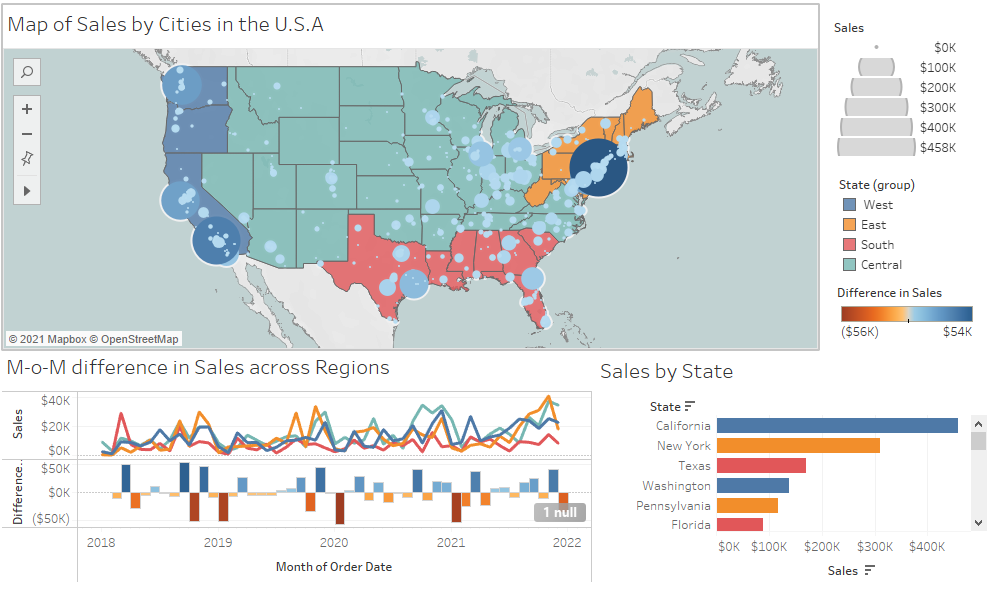

Layout of this report page (visuals, bound fields, positions):
{"tool":"tableau","page":{"name":"Dashboard 1","canvas":[1000,800],"ordinal":0},"visuals":[{"type":"worksheet","title":"Map of Sales by Cities in the U.S.A","mark":"Automatic","box":[6,8,815,344]},{"type":"legend","title":"Map of Sales by Cities in the U.S.A","param":"[federated.07zjtj81ws5qd41bbu4ka1m1dud5].[sum:Sales:qk]","box":[837,22,140,138]},{"type":"legend","title":"Map of Sales by Cities in the U.S.A","param":"[federated.07zjtj81ws5qd41bbu4ka1m1dud5].[State (group)]","box":[842,179,140,98]},{"type":"legend","title":"M-o-M difference in Sales across Regions","param":"[federated.07zjtj81ws5qd41bbu4ka1m1dud5].[diff:sum:Sales:qk]","box":[840,287,140,76]},{"type":"worksheet","title":"M-o-M difference in Sales across Regions","mark":"Automatic","rows":["Sales","Sales"],"cols":["Order Date"],"box":[5,351,590,235]},{"type":"worksheet","title":"Sales by State","mark":"Automatic","rows":["State"],"cols":["Sales"],"box":[599,355,391,234]}]}

Visuals, with their boxes on the page's 1000x800 design canvas (x1, y1, x2, y2). These are canvas units, not pixel positions in the 991x590 screenshot, which may show the page scaled, cropped or inside an application window:
"Map of Sales by Cities in the U.S.A" worksheet: <region>6, 8, 821, 352</region>
"Map of Sales by Cities in the U.S.A" legend: <region>837, 22, 977, 160</region>
"Map of Sales by Cities in the U.S.A" legend: <region>842, 179, 982, 277</region>
"M-o-M difference in Sales across Regions" legend: <region>840, 287, 980, 363</region>
"M-o-M difference in Sales across Regions" worksheet: <region>5, 351, 595, 586</region>
"Sales by State" worksheet: <region>599, 355, 990, 589</region>
